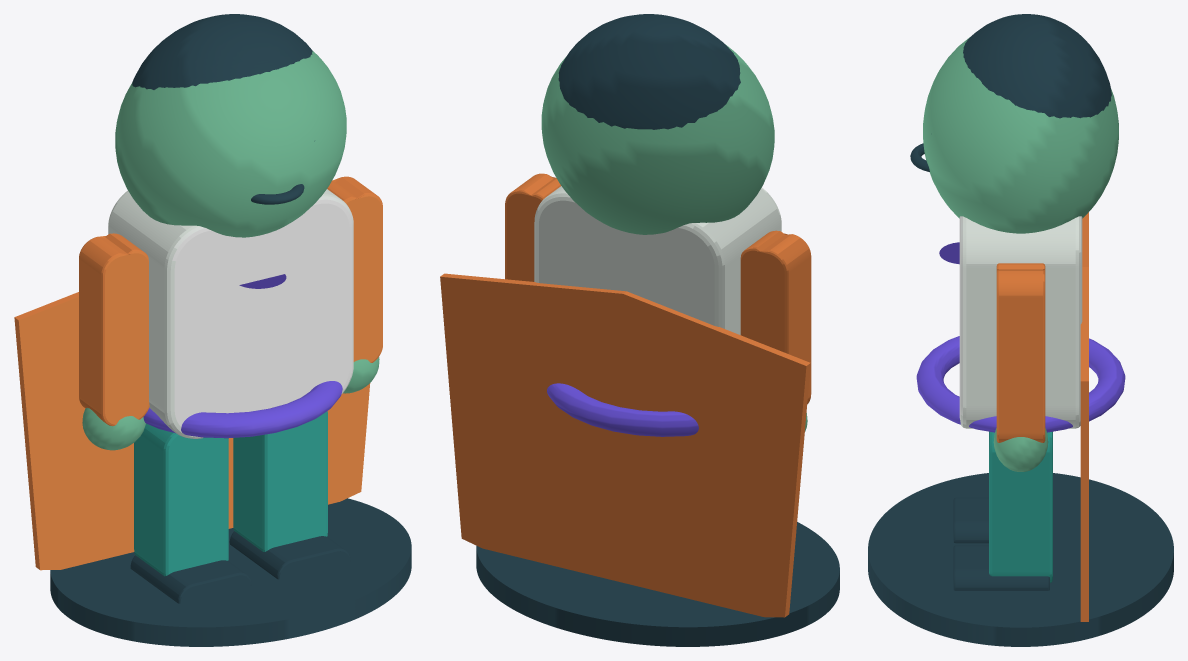
3 views of the same model, side by side, from view 1: azimuth 30°, elevation 25°; view 2: azimuth 150°, elevation 25°; view 3: azimuth 270°, elevation 25° (orthographic). The views are drawn at different scales.
Visible parts, largest first — view 1: card_1128; view 2: card_1128; view 3: card_1128.
Part boxes in pixels (<box>): card_1128: <box>14,14,411,646</box>; card_1128: <box>440,14,839,646</box>; card_1128: <box>868,14,1173,646</box>.
Size of the model in its own units: 0.6739 by 1 by 0.4987.
